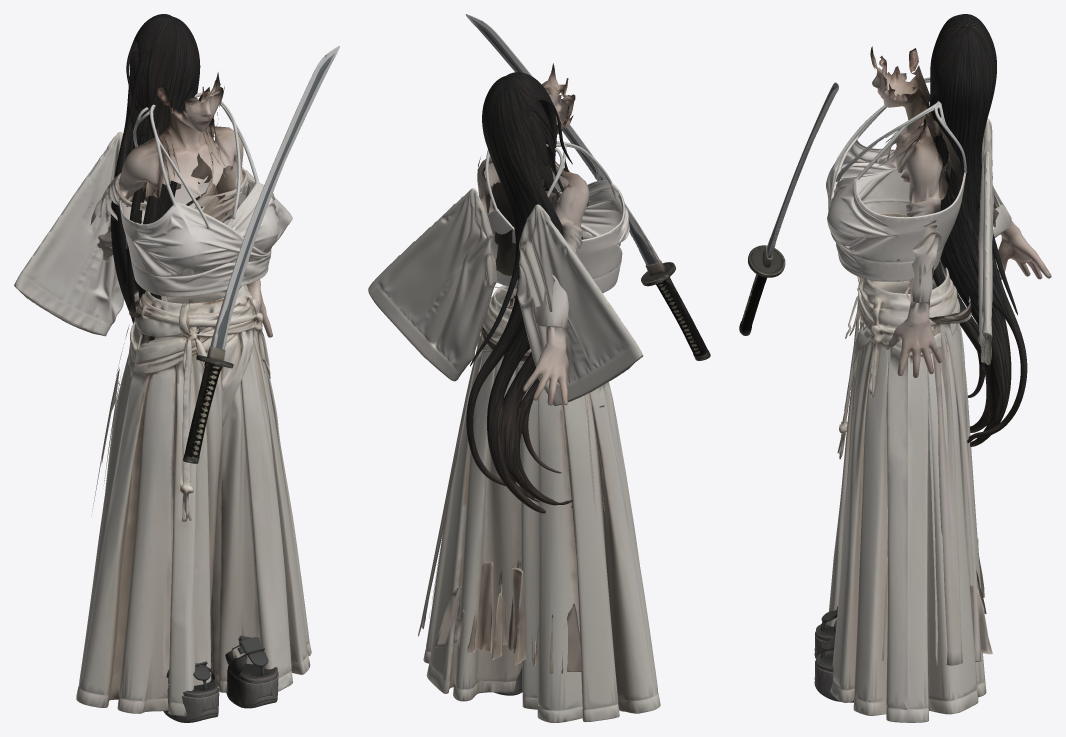
The model's file is stand-parts.glb.
3 views of the same model, side by side, from view 1: azimuth 30°, elevation 25°; view 2: azimuth 150°, elevation 25°; view 3: azimuth 270°, elevation 25° (orthographic). The views are drawn at different scales.
Visible parts, largest first — view 1: stand-parts; view 2: stand-parts; view 3: stand-parts.
Boxes of the visible parts, bbox=[...] form: stand-parts: bbox=[14, 14, 339, 722]; stand-parts: bbox=[368, 14, 710, 722]; stand-parts: bbox=[739, 14, 1051, 722].
Size of the model in its own units: 0.4471 by 1 by 0.4283.
Materials: 7 (7 with a texture image).
